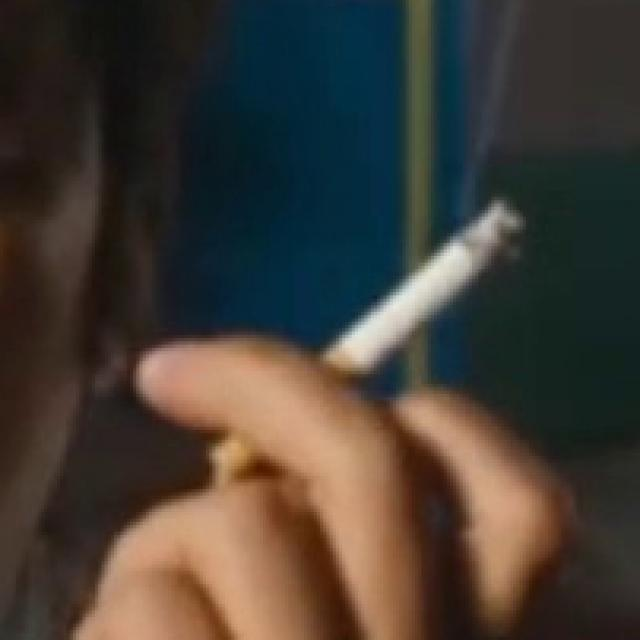smoking: (208, 199, 524, 478)
